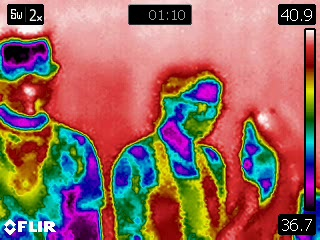human: (1, 28, 111, 240), (110, 62, 237, 240), (231, 108, 320, 240)
